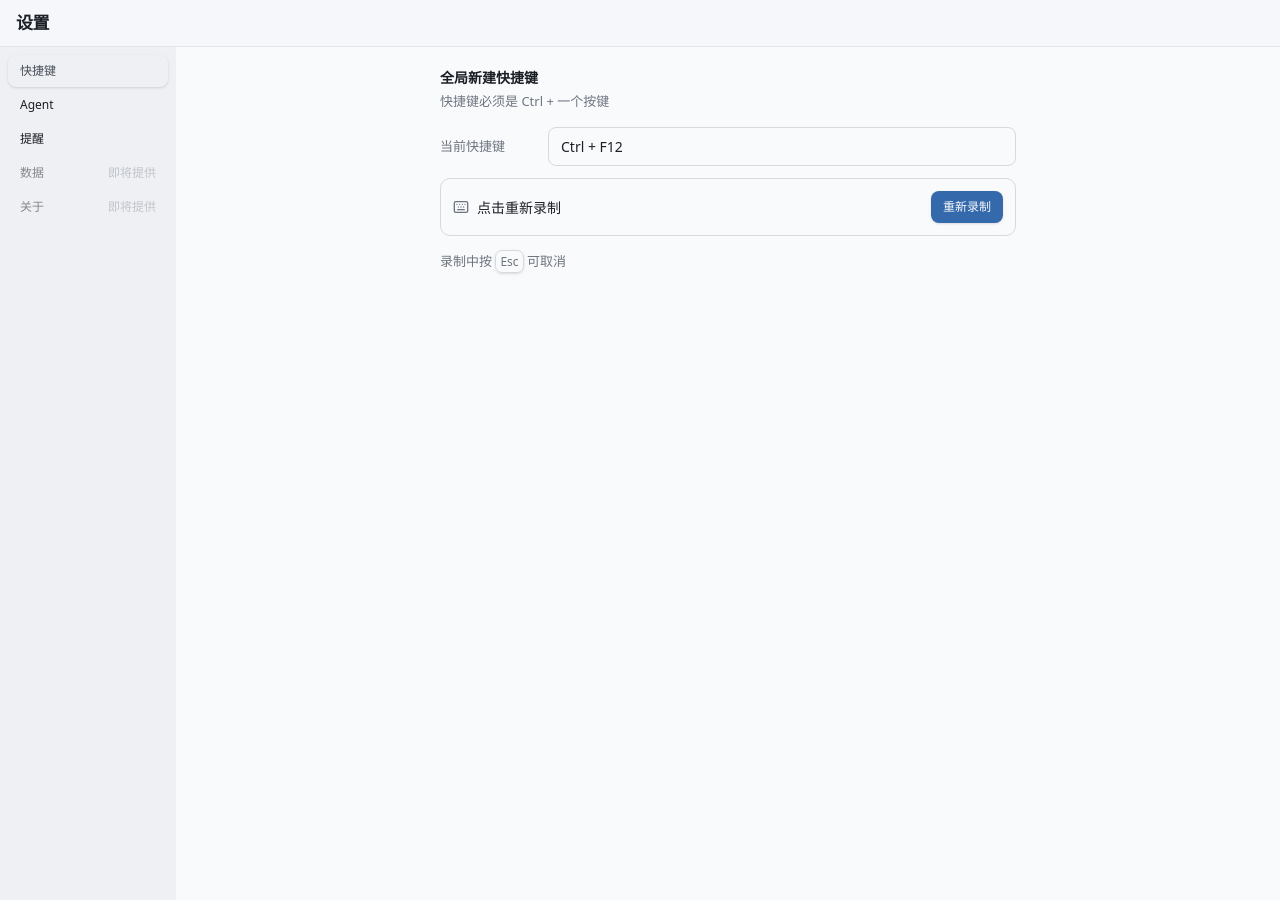
Test: 设置页提醒冷却 › 更新失败保留旧值
The image size is (1280, 900).
Click the button "提醒" at (88, 138), box [8,122,168,154]
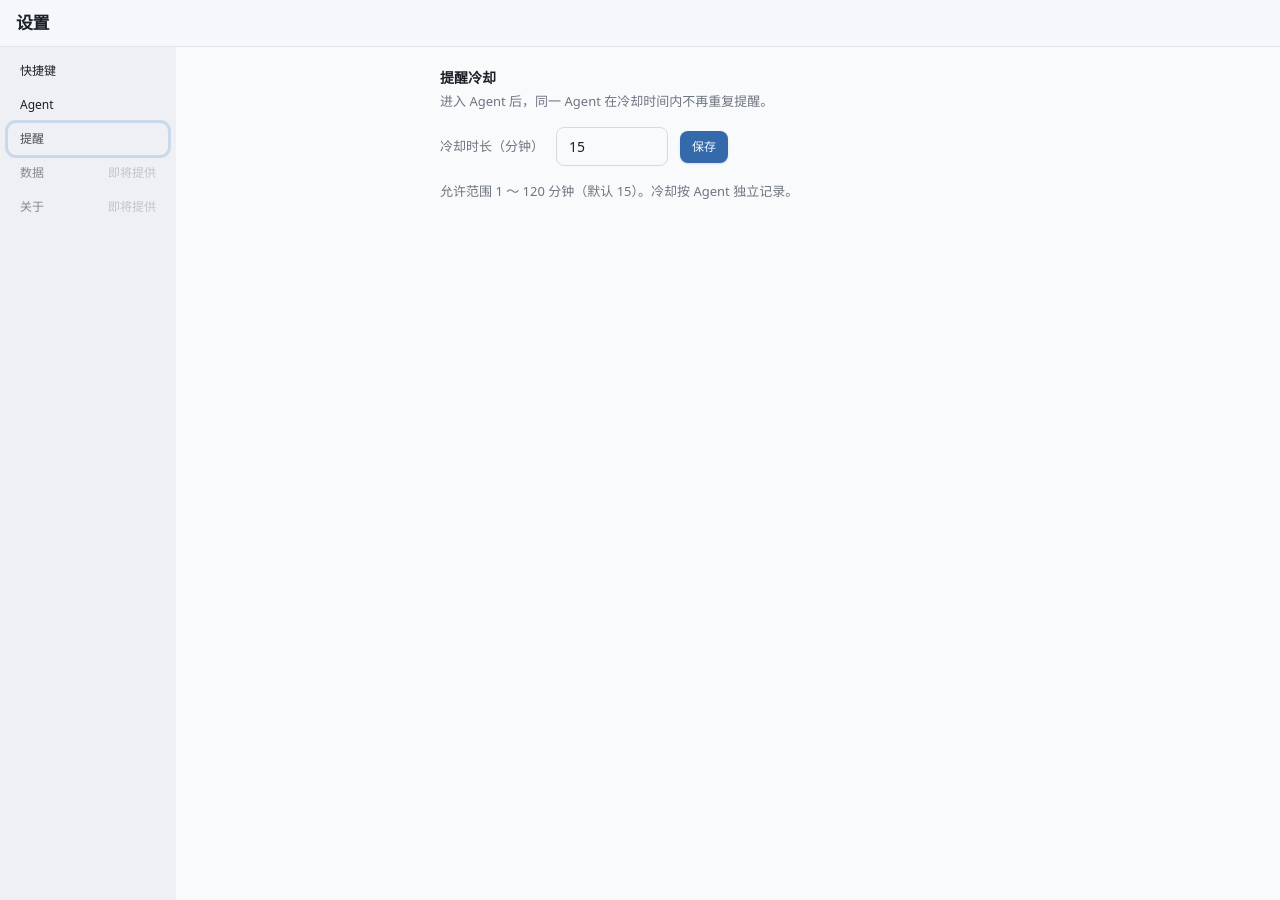
Replace the text in the number field with test id "reminder-cooldown-input" with "5" at (612, 146), box [556,127,668,166]
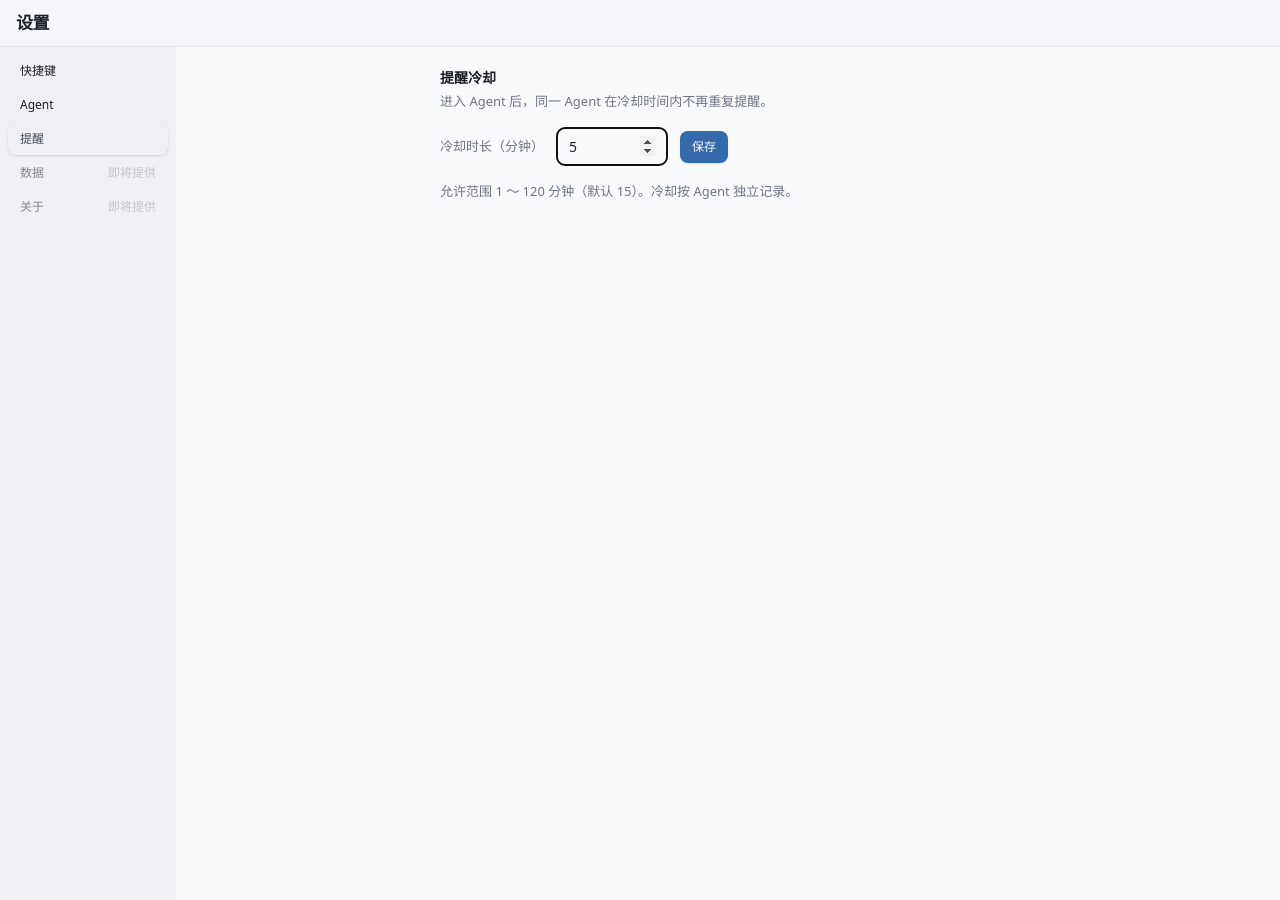
Click the button "保存" at (704, 146), box [680,130,728,162]
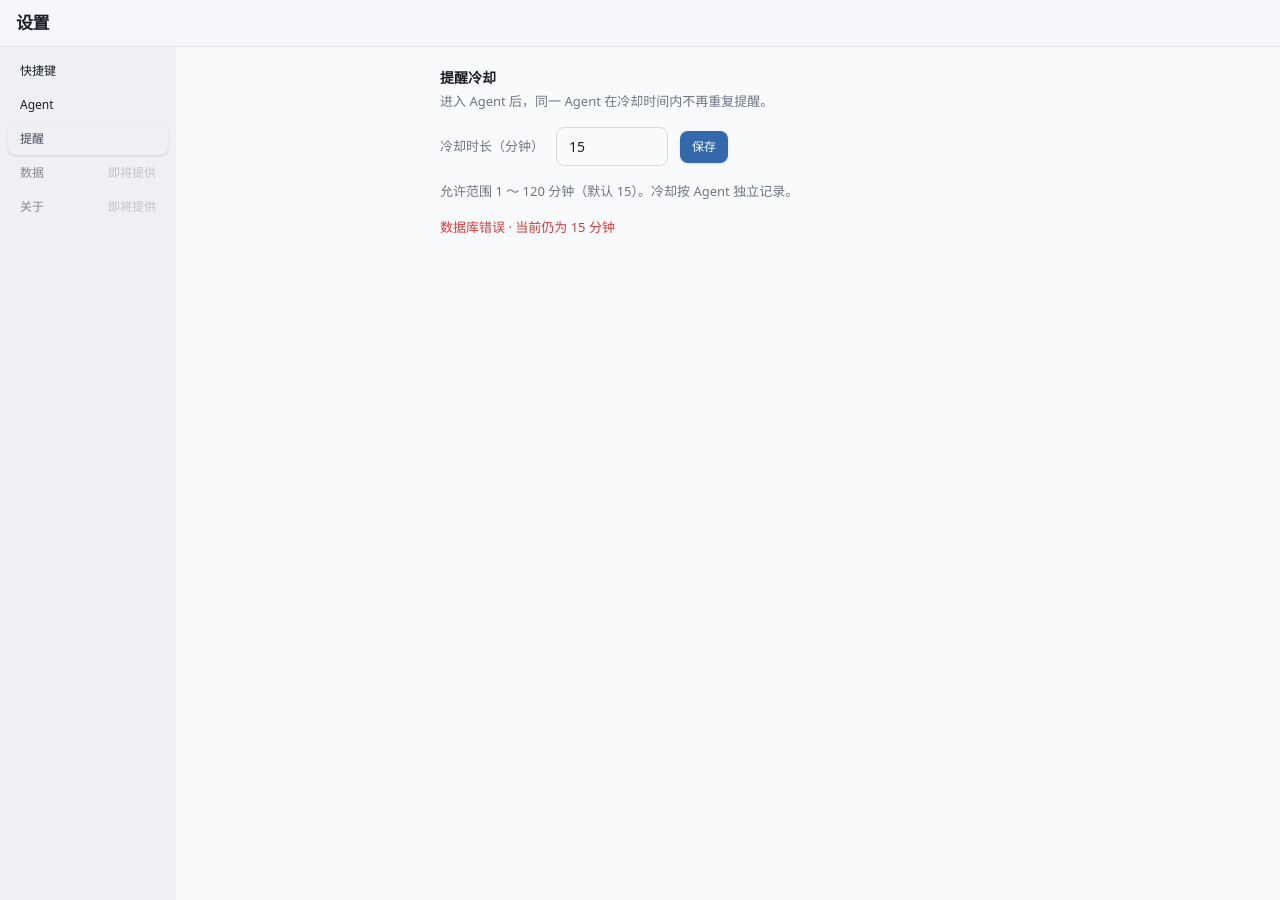
Check: the message shows "数据库错误", box [440,218,505,236]
Check: the number field with test id "reminder-cooldown-input" holds "15", box [556,127,668,166]
